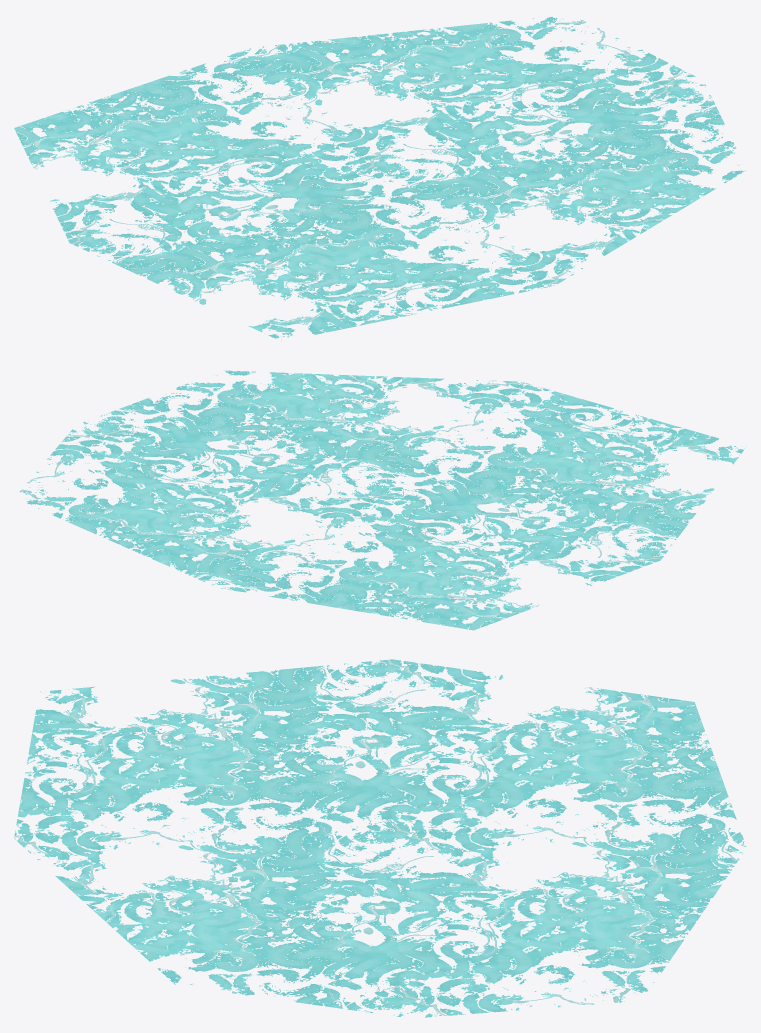
The model's file is pm-water-pond-01.glb.
3 views of the same model, one above another, from view 1: azimuth 30°, elevation 25°; view 2: azimuth 150°, elevation 25°; view 3: azimuth 270°, elevation 25° (orthographic). The views are drawn at different scales.
Parts seen in each view (by area): view 1: Water_Pond_01_Art; view 2: Water_Pond_01_Art; view 3: Water_Pond_01_Art.
Part boxes in pixels (<box>): Water_Pond_01_Art: <box>14,17,745,340</box>; Water_Pond_01_Art: <box>19,370,746,630</box>; Water_Pond_01_Art: <box>14,659,746,1017</box>.
Bounding box in the file's own units: 14.05 × 1.63e-06 × 12.11.
1 material, 1 textured.
